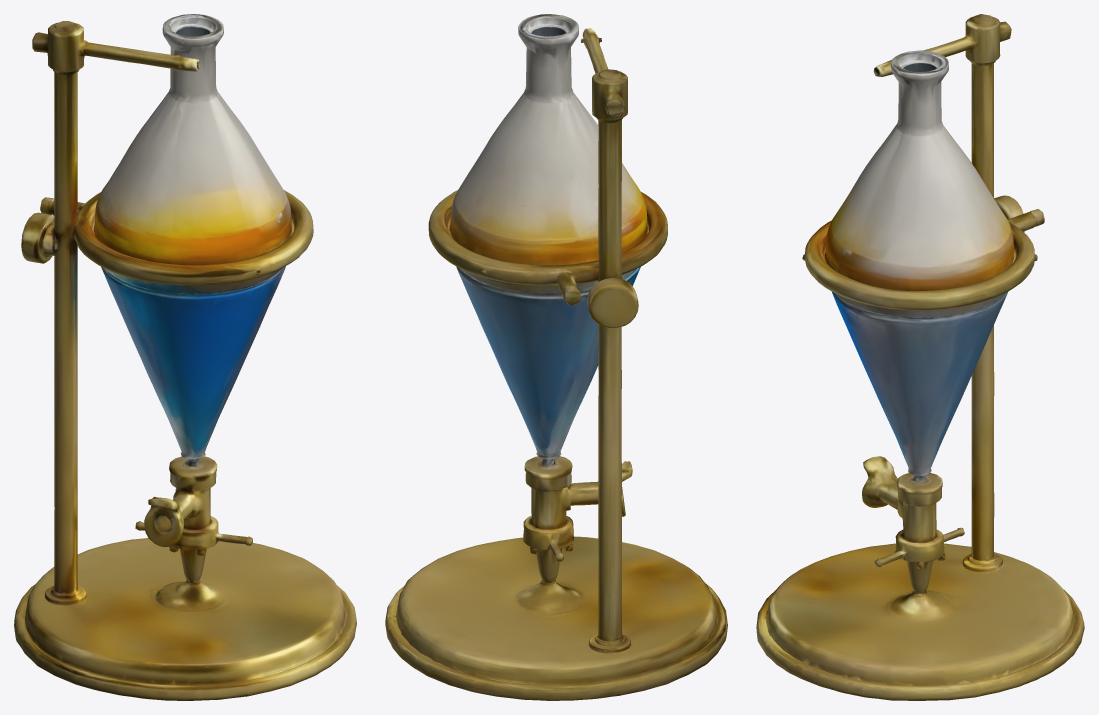
The model's file is funnel.glb.
3 views of the same model, side by side, from view 1: azimuth 30°, elevation 25°; view 2: azimuth 150°, elevation 25°; view 3: azimuth 270°, elevation 25° (orthographic). The views are drawn at different scales.
Parts seen in each view (by area): view 1: tripo_node_ad9daec8-6020-4a4a-876f-38146acc2959; view 2: tripo_node_ad9daec8-6020-4a4a-876f-38146acc2959; view 3: tripo_node_ad9daec8-6020-4a4a-876f-38146acc2959.
Part boxes in pixels (x1,y1,x2,y2): tripo_node_ad9daec8-6020-4a4a-876f-38146acc2959: (14, 14, 356, 700); tripo_node_ad9daec8-6020-4a4a-876f-38146acc2959: (385, 14, 727, 700); tripo_node_ad9daec8-6020-4a4a-876f-38146acc2959: (756, 14, 1084, 700).
Bounding box in the file's own units: 0.5184 × 1 × 0.5171.
Materials: 1 (1 with a texture image).
